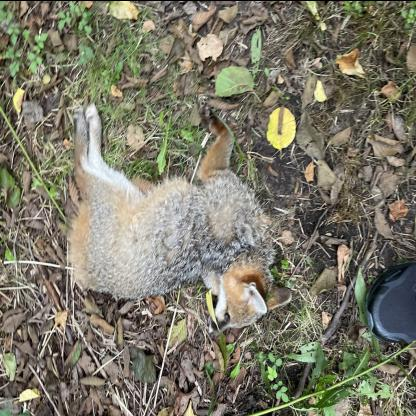zorro: (49, 88, 299, 356)
